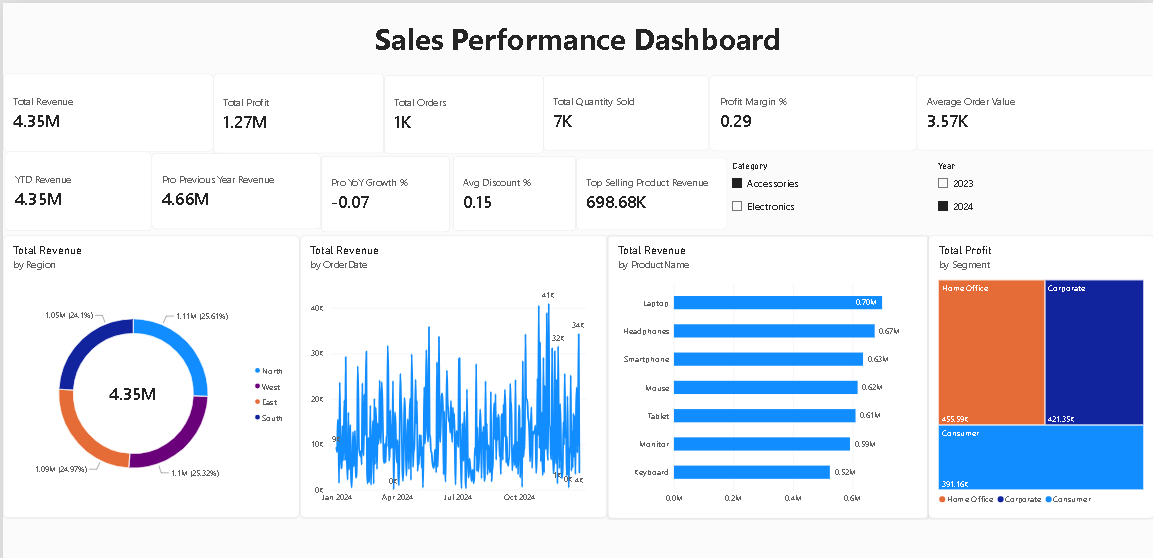

What the dashboard file says about the page in this screenshot:
{"tool":"powerbi","page":{"name":"Page 1","canvas":[1920,1080],"ordinal":0},"visuals":[{"type":"cardVisual","fields":{"Data":["sales_data.Total Revenue"]},"box":[0,117.5,351.2,130],"z":0},{"type":"donutChart","fields":{"Category":["sales_data.Region"],"Y":["sales_data.Total Revenue"]},"box":[0,388,494,470],"z":1000},{"type":"cardVisual","fields":{"Data":["sales_data.Total Profit"]},"box":[350,117.5,285,133.8],"z":2000},{"type":"cardVisual","fields":{"Data":["sales_data.Total Orders"]},"box":[635,120,266.2,131.2],"z":3000},{"type":"cardVisual","fields":{"Data":["sales_data.Total Quantity Sold"]},"box":[900,121.1,276.7,126.7],"z":4000},{"type":"cardVisual","fields":{"Data":["sales_data.Profit Margin %"]},"box":[1177.8,120,345.6,127.8],"z":5000},{"type":"cardVisual","fields":{"Data":["sales_data.Average Order Value"]},"box":[1523.3,121.1,397.8,126.7],"z":6000},{"type":"cardVisual","fields":{"Data":["sales_data.YTD Revenue"]},"box":[2.5,247.5,245,132.5],"z":7000},{"type":"cardVisual","fields":{"Data":["sales_data.Pro Previous Year Revenue"]},"box":[247.5,250,282.5,127.5],"z":8000},{"type":"cardVisual","fields":{"Data":["sales_data.Pro YoY Growth %"]},"box":[530,255,215,127.5],"z":9000},{"type":"cardVisual","fields":{"Data":["sales_data.Top Selling Product Revenue"]},"box":[955,257.5,252.5,120],"z":10000},{"type":"cardVisual","fields":{"Data":["sales_data.Avg Discount %"]},"box":[750,255,205,125],"z":11000},{"type":"lineChart","fields":{"Category":["sales_data.OrderDate.Variation.Date Hierarchy.Year"],"Y":["sales_data.Total Revenue"]},"box":[494,388,512,470],"z":12000},{"type":"clusteredBarChart","fields":{"Category":["sales_data.ProductName"],"Y":["sales_data.Total Revenue"]},"box":[1007.5,387.5,535,471.2],"z":13000},{"type":"treemap","fields":{"Group":["sales_data.Segment"],"Values":["sales_data.Total Profit"]},"box":[1542.5,387.4,375.9,471.3],"z":14000},{"type":"textbox","box":[0,26.5,1917.6,88.2],"z":15000},{"type":"slicer","fields":{"Values":["sales_data.Category"]},"box":[1207.8,262.2,334.4,115.6],"z":16000},{"type":"slicer","fields":{"Values":["Calendar.Year"]},"box":[1548.9,262.2,362.2,115.6],"z":17000}]}

Visuals, with their boxes on the page's 1920x1080 design canvas (x1, y1, x2, y2). These are canvas units, not pixel positions in the 1153x558 screenshot, which may show the page scaled, cropped or inside an application window:
cardVisual - sales_data.Total Revenue: [0, 118, 351, 248]
donutChart - sales_data.Region x sales_data.Total Revenue: [0, 388, 494, 858]
cardVisual - sales_data.Total Profit: [350, 118, 635, 251]
cardVisual - sales_data.Total Orders: [635, 120, 901, 251]
cardVisual - sales_data.Total Quantity Sold: [900, 121, 1177, 248]
cardVisual - sales_data.Profit Margin %: [1178, 120, 1523, 248]
cardVisual - sales_data.Average Order Value: [1523, 121, 1921, 248]
cardVisual - sales_data.YTD Revenue: [2, 248, 248, 380]
cardVisual - sales_data.Pro Previous Year Revenue: [248, 250, 530, 378]
cardVisual - sales_data.Pro YoY Growth %: [530, 255, 745, 382]
cardVisual - sales_data.Top Selling Product Revenue: [955, 258, 1208, 378]
cardVisual - sales_data.Avg Discount %: [750, 255, 955, 380]
lineChart - sales_data.OrderDate.Variation.Date Hierarchy.Year x sales_data.Total Revenue: [494, 388, 1006, 858]
clusteredBarChart - sales_data.ProductName x sales_data.Total Revenue: [1008, 388, 1542, 859]
treemap - sales_data.Segment x sales_data.Total Profit: [1542, 387, 1918, 859]
textbox: [0, 26, 1918, 115]
slicer - sales_data.Category: [1208, 262, 1542, 378]
slicer - Calendar.Year: [1549, 262, 1911, 378]
